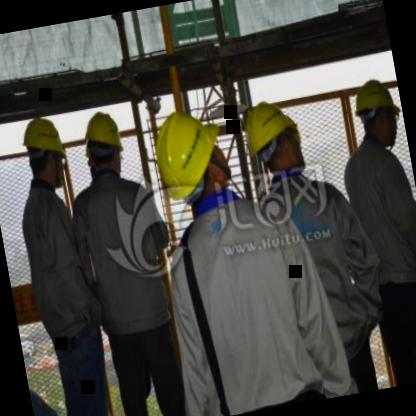helmet: (148, 96, 244, 216), (236, 90, 314, 189), (16, 110, 74, 198), (348, 75, 408, 156), (76, 107, 130, 186)
